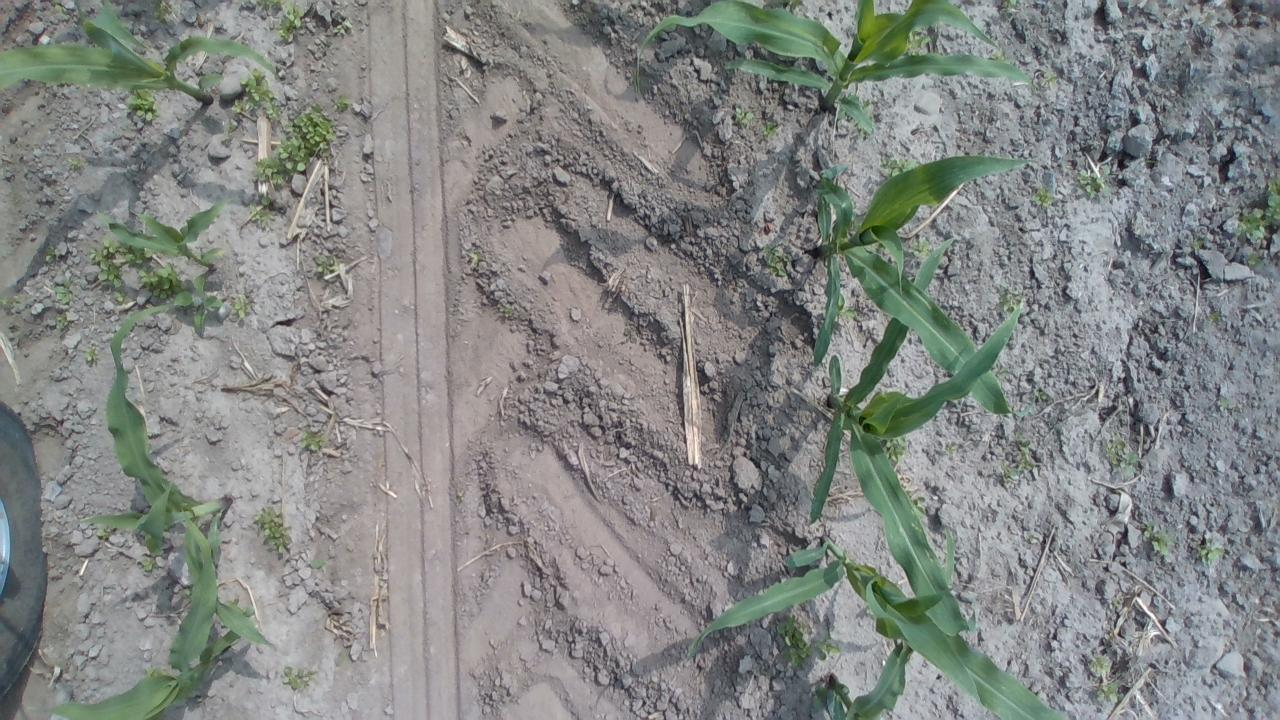Maize: (686, 540, 1076, 720), (78, 305, 276, 650), (808, 238, 978, 636), (810, 154, 1032, 417), (631, 0, 1040, 136), (29, 508, 237, 720), (0, 0, 279, 105), (819, 525, 956, 720), (94, 198, 226, 298)
Weeds: (252, 103, 338, 190), (230, 66, 281, 122), (174, 274, 223, 330), (88, 235, 128, 286), (252, 506, 292, 552), (138, 264, 190, 298), (778, 616, 812, 666), (1104, 430, 1137, 476), (1074, 164, 1114, 198), (274, 1, 304, 42), (1236, 206, 1268, 242), (126, 87, 159, 121), (1142, 524, 1174, 555), (762, 244, 792, 277), (1262, 174, 1280, 227), (901, 27, 931, 57), (878, 156, 918, 178), (249, 196, 274, 228), (1198, 537, 1226, 564), (882, 434, 908, 462), (816, 632, 842, 660), (282, 666, 312, 690), (996, 283, 1020, 312), (1016, 437, 1036, 470), (835, 294, 858, 321), (149, 0, 173, 24), (312, 255, 338, 276), (300, 430, 324, 452), (846, 93, 871, 114), (126, 246, 152, 266), (54, 277, 72, 304), (1096, 682, 1118, 703), (1032, 188, 1055, 208), (908, 494, 927, 518), (1088, 655, 1112, 674), (908, 238, 932, 256), (233, 296, 251, 320), (988, 48, 1011, 66), (734, 106, 754, 126), (814, 683, 828, 710), (220, 121, 238, 142), (866, 242, 889, 257), (993, 362, 1011, 381), (1002, 463, 1019, 483), (761, 120, 778, 137), (334, 93, 349, 112), (308, 558, 328, 572), (332, 21, 352, 34), (50, 0, 65, 17), (1044, 68, 1058, 86), (853, 120, 867, 138), (140, 558, 157, 572), (56, 314, 70, 330), (255, 0, 282, 8), (66, 157, 84, 169), (1246, 251, 1260, 266), (1, 296, 22, 306), (96, 526, 110, 540), (44, 246, 56, 262), (1206, 310, 1220, 322), (1034, 389, 1048, 401), (84, 347, 95, 362), (242, 604, 255, 616), (1002, 0, 1016, 11), (468, 251, 484, 260), (1192, 239, 1204, 250), (1217, 397, 1229, 407), (838, 105, 846, 120), (948, 442, 958, 454), (225, 598, 238, 606), (499, 307, 513, 314), (1026, 534, 1038, 542), (184, 587, 194, 595)
